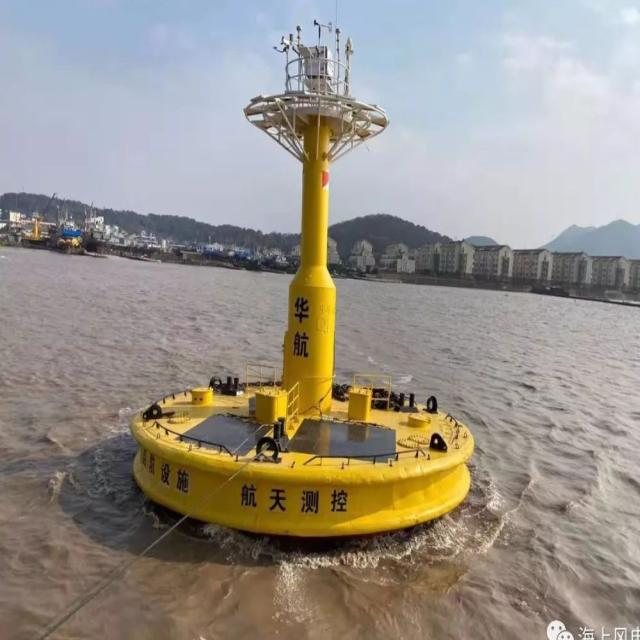buoy: (126, 16, 474, 542)
